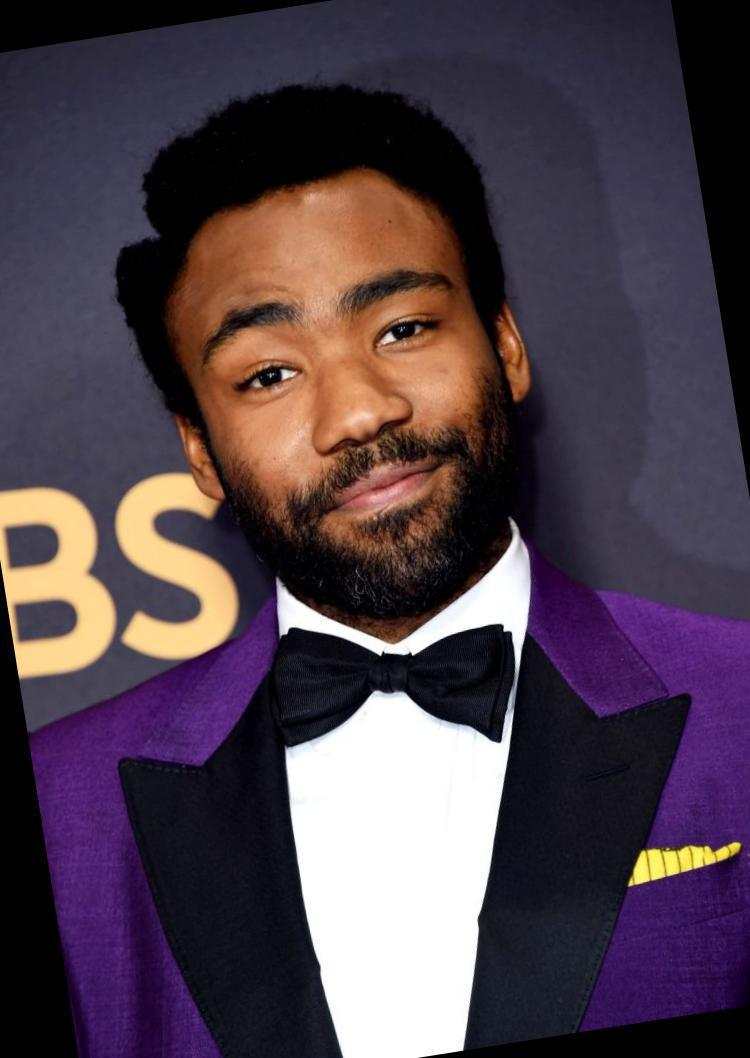Sober: (193, 218, 494, 572)
